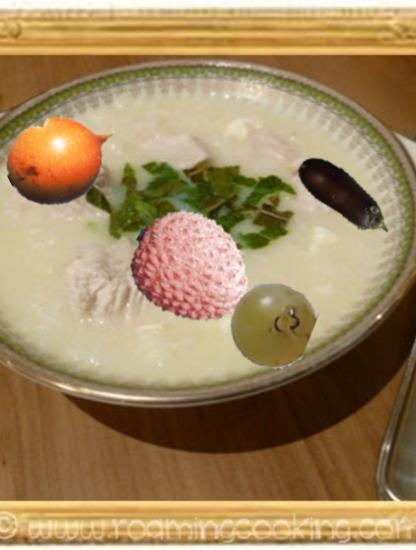Eggplant: (289, 140, 402, 253)
Granadilla: (5, 100, 121, 216)
Grape: (229, 283, 314, 368)
Lychee: (130, 205, 256, 331)
